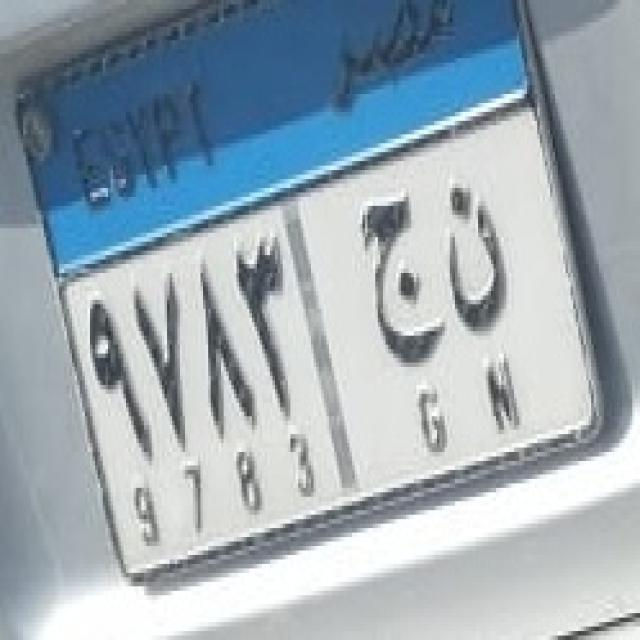3: (236, 226, 315, 429)
7: (128, 268, 202, 451)
8: (193, 255, 256, 442)
9: (82, 280, 158, 470)
Noon: (439, 164, 524, 344)
geem: (360, 198, 450, 368)
